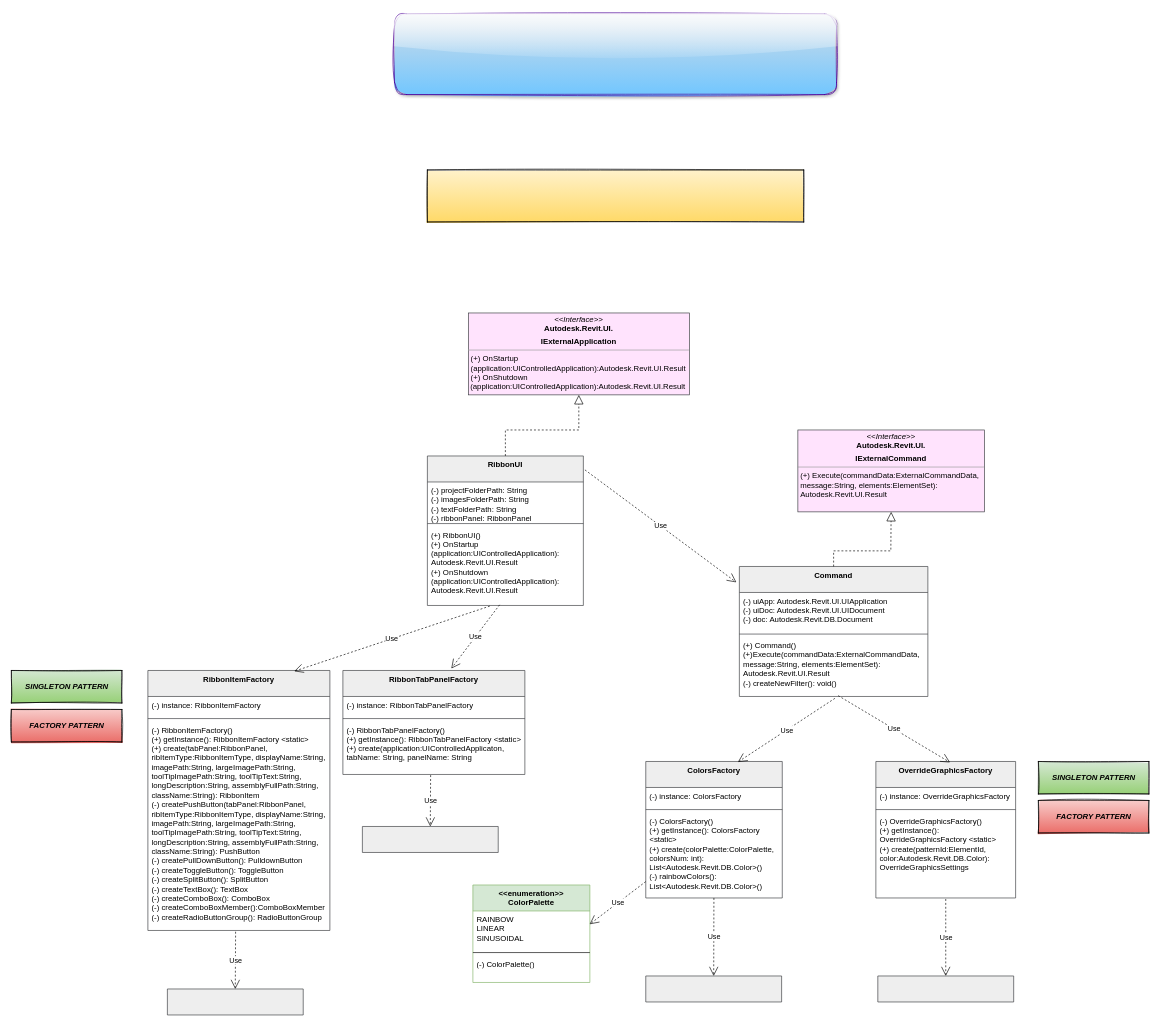
Some shapes in this 1160 by 1026 pixel diagram are drawn without their labels. Each missing label, with the centre of its shape:
Autodesk.Revit.DB. Color: the point at 713,988
Autodesk.Revit.DB. OverrideGraphicSettings: the point at 945,988
Autodesk.Revit.UI. RibbonItem: the point at 235,1001
Autodesk.Revit.UI. RibbonPanel: the point at 430,839
Revit API Plugin VIEWFILTERSTRANSFER: the point at 615,55
UML CLASSES DIAGRAM: the point at 615,195
